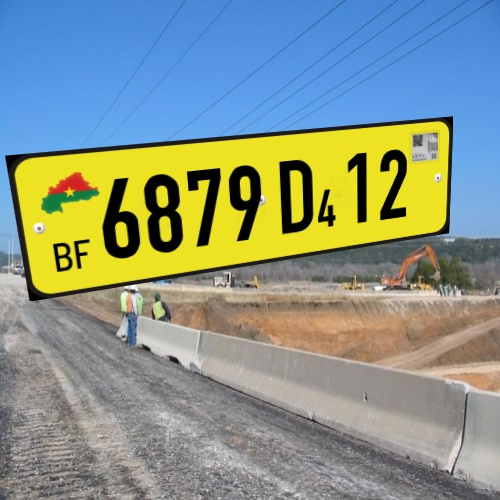plate: (4, 110, 474, 308)
